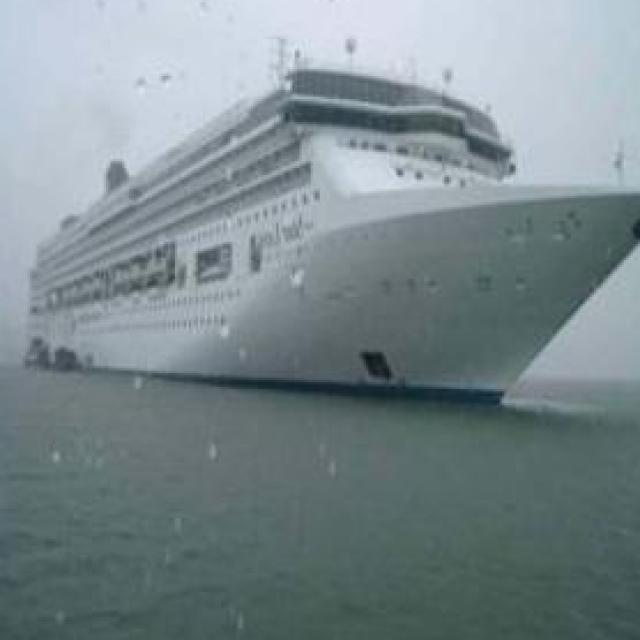passenger ship: (23, 44, 640, 403)
